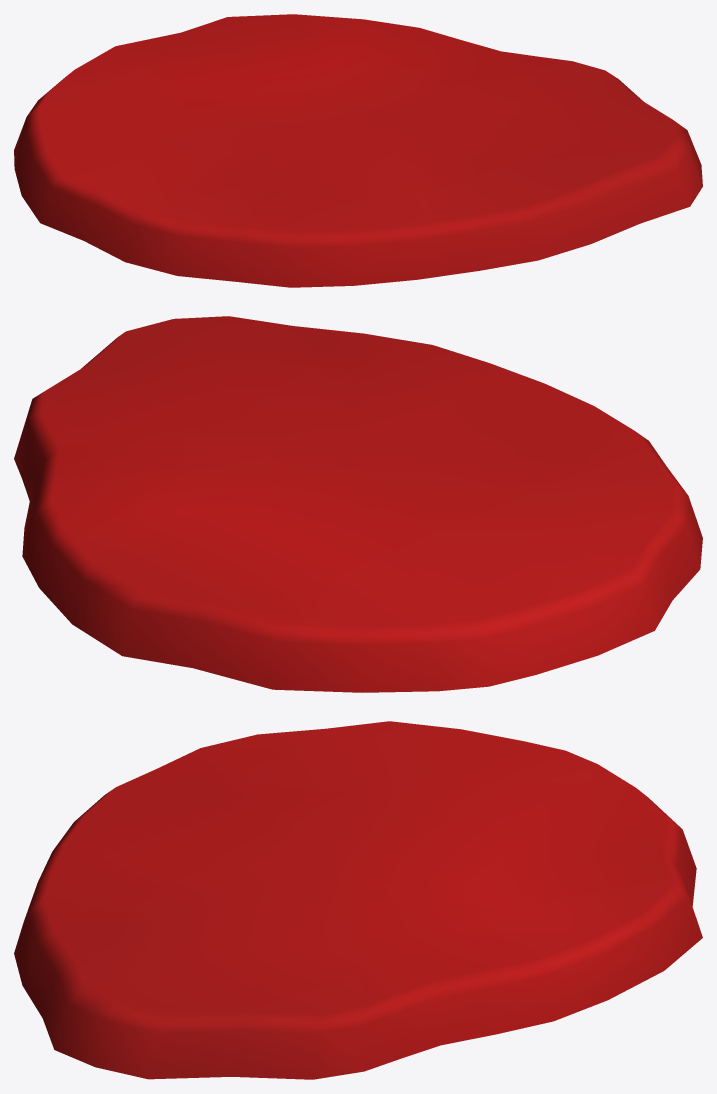
Rendered from SM_BreakfastProps_Jam_02.fbx.
3 renders of one model, top to bottom at view 1: azimuth 30°, elevation 25°; view 2: azimuth 150°, elevation 25°; view 3: azimuth 270°, elevation 25°, orthographic. The views are drawn at different scales.
Parts seen in each view (by area): view 1: SM_BreakfastProps_Jam_02_LOD0; view 2: SM_BreakfastProps_Jam_02_LOD0; view 3: SM_BreakfastProps_Jam_02_LOD0.
Part boxes in pixels (x1,y1,x2,y2): SM_BreakfastProps_Jam_02_LOD0: (14, 14, 702, 287); SM_BreakfastProps_Jam_02_LOD0: (14, 316, 702, 692); SM_BreakfastProps_Jam_02_LOD0: (14, 721, 702, 1079).
Size of the model in its own units: 4.28 by 3.92 by 0.3856.
Materials: 1 (1 with a texture image).
